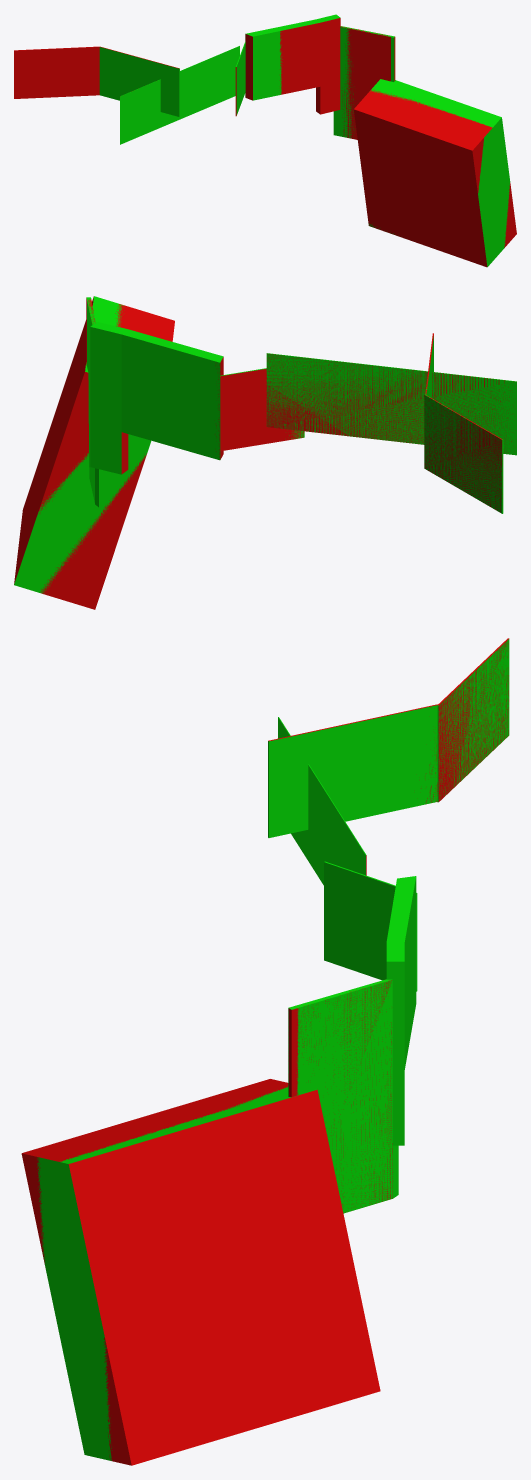
File: InvisibleWall_004.fbx
3 views of the same model, one above another, from view 1: azimuth 30°, elevation 25°; view 2: azimuth 150°, elevation 25°; view 3: azimuth 270°, elevation 25° (orthographic). The views are drawn at different scales.
Visible parts, largest first — view 1: InvisibleWall_004_Phys, Designer189, Designer47, Designer140, Designer223, Designer116, Designer48; view 2: InvisibleWall_004_Phys, Designer47, Designer223, Designer189, Designer168, Designer116; view 3: InvisibleWall_004_Phys, Designer116, Designer140, Designer189, Designer48, Designer168, Designer223, Designer47.
Boxes of the visible parts, x1,y1,x2,y2 form: InvisibleWall_004_Phys: (14,18,516,267); Designer189: (368,79,510,266); Designer47: (120,46,239,144); Designer140: (99,47,179,116); Designer223: (245,14,340,100); Designer116: (333,26,394,138); Designer48: (236,42,245,115); InvisibleWall_004_Phys: (14,296,513,609); Designer47: (266,353,516,455); Designer223: (90,322,223,474); Designer189: (14,296,151,593); Designer168: (424,394,503,513); Designer116: (86,297,98,507); InvisibleWall_004_Phys: (21,638,509,1465); Designer116: (288,979,398,1213); Designer140: (268,705,437,837); Designer189: (37,1086,316,1460); Designer48: (324,861,417,991); Designer168: (437,639,509,802); Designer223: (386,876,416,1145); Designer47: (278,717,366,885).
Size of the model in its own units: 10543 by 5647 by 5449.
